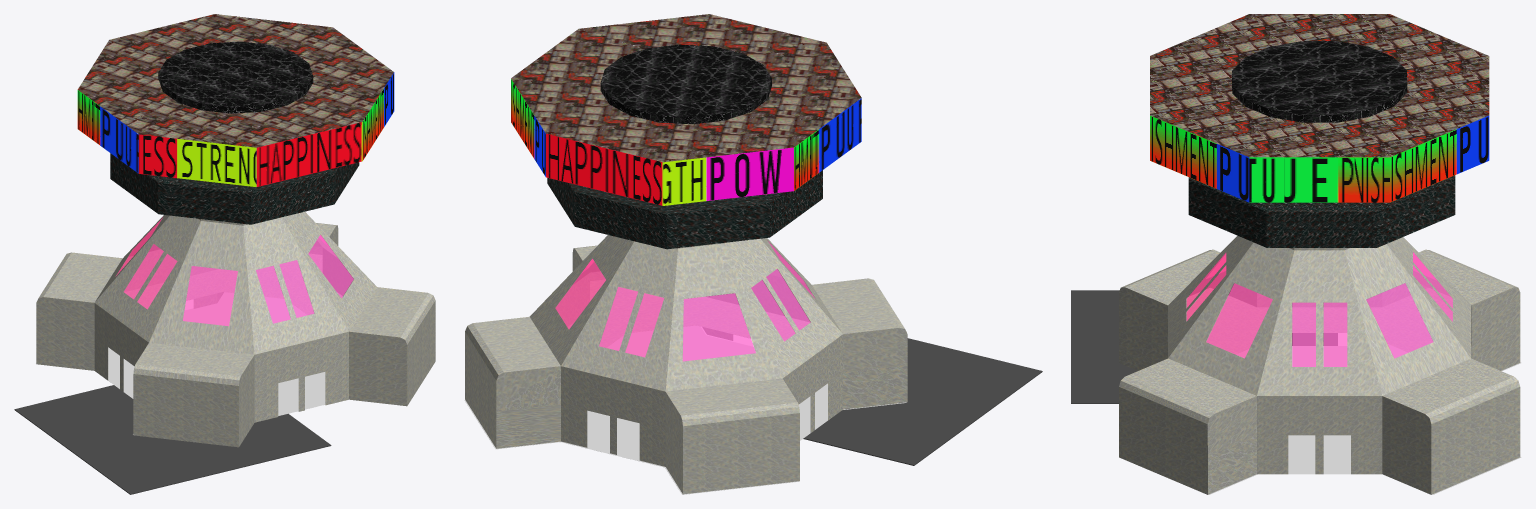
The picture shows the model from 3 angles, left to right: view 1: azimuth 30°, elevation 25°; view 2: azimuth 150°, elevation 25°; view 3: azimuth 270°, elevation 25°; orthographic projection. The views are drawn at different scales.
Visible parts, largest first — view 1: MEGA-MALL-COL, MEGA_MAL_SIGN-COL, 01_street_base_plate-COL.014, MEGA-MALL-COL.001, MEGA-MALL_FLOOR-COL; view 2: MEGA-MALL-COL, MEGA_MAL_SIGN-COL, 01_street_base_plate-COL.014, MEGA-MALL-COL.001, MEGA-MALL_FLOOR-COL; view 3: MEGA-MALL-COL, MEGA_MAL_SIGN-COL, MEGA-MALL-COL.001, 01_street_base_plate-COL.014, MEGA-MALL_FLOOR-COL.
Boxes of the visible parts, x1,y1,x2,y2 form: MEGA-MALL-COL: (36, 153, 435, 447); MEGA_MAL_SIGN-COL: (77, 14, 394, 187); 01_street_base_plate-COL.014: (14, 385, 331, 494); MEGA-MALL-COL.001: (116, 217, 353, 326); MEGA-MALL_FLOOR-COL: (36, 292, 325, 434); MEGA-MALL-COL: (465, 170, 907, 494); MEGA_MAL_SIGN-COL: (511, 14, 861, 205); 01_street_base_plate-COL.014: (803, 338, 1042, 465); MEGA-MALL-COL.001: (555, 241, 814, 361); MEGA-MALL_FLOOR-COL: (464, 326, 906, 494); MEGA-MALL-COL: (1119, 175, 1520, 494); MEGA_MAL_SIGN-COL: (1150, 14, 1489, 202); MEGA-MALL-COL.001: (1186, 252, 1452, 366); 01_street_base_plate-COL.014: (1071, 290, 1337, 403); MEGA-MALL_FLOOR-COL: (1209, 344, 1521, 494).
Size of the model in its own units: 464 by 353 by 432.
Materials: 7 (5 with a texture image).
